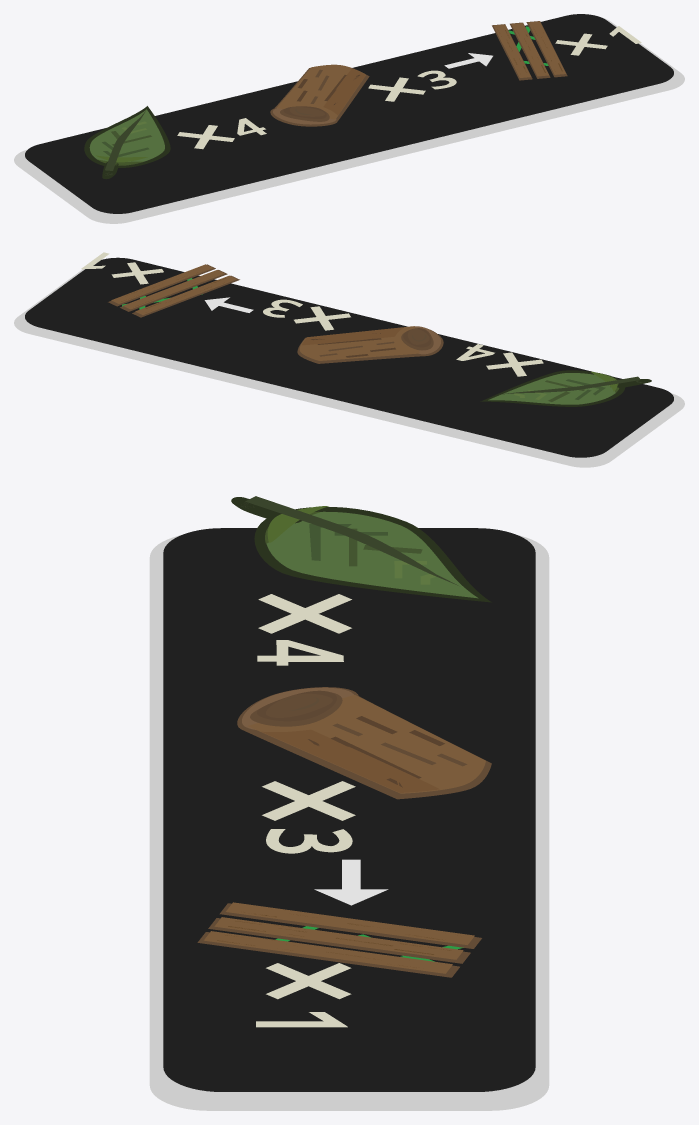
The model's file is WoodBridge.fbx.
3 views of the same model, one above another, from view 1: azimuth 30°, elevation 25°; view 2: azimuth 150°, elevation 25°; view 3: azimuth 270°, elevation 25° (orthographic). The views are drawn at different scales.
Visible parts, largest first — view 1: Curve.001, Curve, Curve.076, Curve.009, Curve.073, Curve.010, Curve.045, Curve.057, Curve.033, Curve.088, Curve.008; view 2: Curve.001, Curve, Curve.076, Curve.009, Curve.010, Curve.073, Curve.057, Curve.045, Curve.033, Curve.008, Curve.088; view 3: Curve.001, Curve, Curve.076, Curve.009, Curve.010, Curve.073, Curve.033, Curve.045, Curve.057, Curve.008, Curve.088, Curve.055 (+5 smaller).
Boxes of the visible parts, x1=… form: Curve.001: x1=25, y1=14, x2=673, y2=213; Curve: x1=14, y1=18, x2=684, y2=223; Curve.076: x1=89, y1=109, x2=164, y2=161; Curve.009: x1=276, y1=64, x2=365, y2=119; Curve.073: x1=84, y1=106, x2=170, y2=167; Curve.010: x1=323, y1=68, x2=365, y2=115; Curve.045: x1=511, y1=23, x2=549, y2=76; Curve.057: x1=528, y1=21, x2=565, y2=74; Curve.033: x1=493, y1=24, x2=531, y2=77; Curve.088: x1=105, y1=111, x2=145, y2=170; Curve.008: x1=271, y1=67, x2=369, y2=126; Curve.001: x1=25, y1=257, x2=673, y2=457; Curve: x1=14, y1=269, x2=684, y2=467; Curve.076: x1=488, y1=373, x2=615, y2=404; Curve.009: x1=299, y1=326, x2=419, y2=360; Curve.010: x1=302, y1=327, x2=404, y2=345; Curve.073: x1=480, y1=370, x2=625, y2=406; Curve.057: x1=111, y1=264, x2=212, y2=303; Curve.045: x1=123, y1=270, x2=224, y2=309; Curve.033: x1=135, y1=275, x2=236, y2=314; Curve.008: x1=297, y1=330, x2=443, y2=363; Curve.088: x1=499, y1=376, x2=640, y2=394; Curve.001: x1=163, y1=528, x2=535, y2=1091; Curve: x1=149, y1=535, x2=549, y2=1110; Curve.076: x1=266, y1=511, x2=478, y2=598; Curve.009: x1=248, y1=695, x2=485, y2=793; Curve.010: x1=261, y1=729, x2=439, y2=792; Curve.073: x1=254, y1=507, x2=491, y2=602; Curve.033: x1=226, y1=902, x2=474, y2=944; Curve.045: x1=214, y1=917, x2=463, y2=959; Curve.057: x1=204, y1=931, x2=452, y2=973; Curve.008: x1=237, y1=696, x2=491, y2=799; Curve.088: x1=245, y1=496, x2=458, y2=585; Curve.055: x1=197, y1=932, x2=459, y2=977.
Size of the model in its own units: 10.91 by 0.56 by 3.18.
